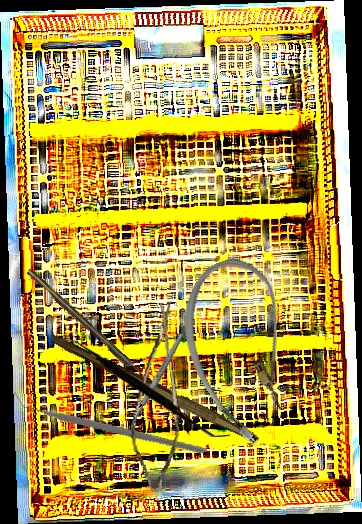Cannula: (163, 248, 321, 454)
Chopper: (14, 341, 207, 503)
Hook Surgical: (25, 267, 149, 383)
Micro Scissor: (113, 298, 198, 495)
Scalpel Handle: (47, 332, 252, 439)
Spatula Surgical: (58, 337, 232, 438)
Surgical Spoon: (124, 332, 185, 435)
